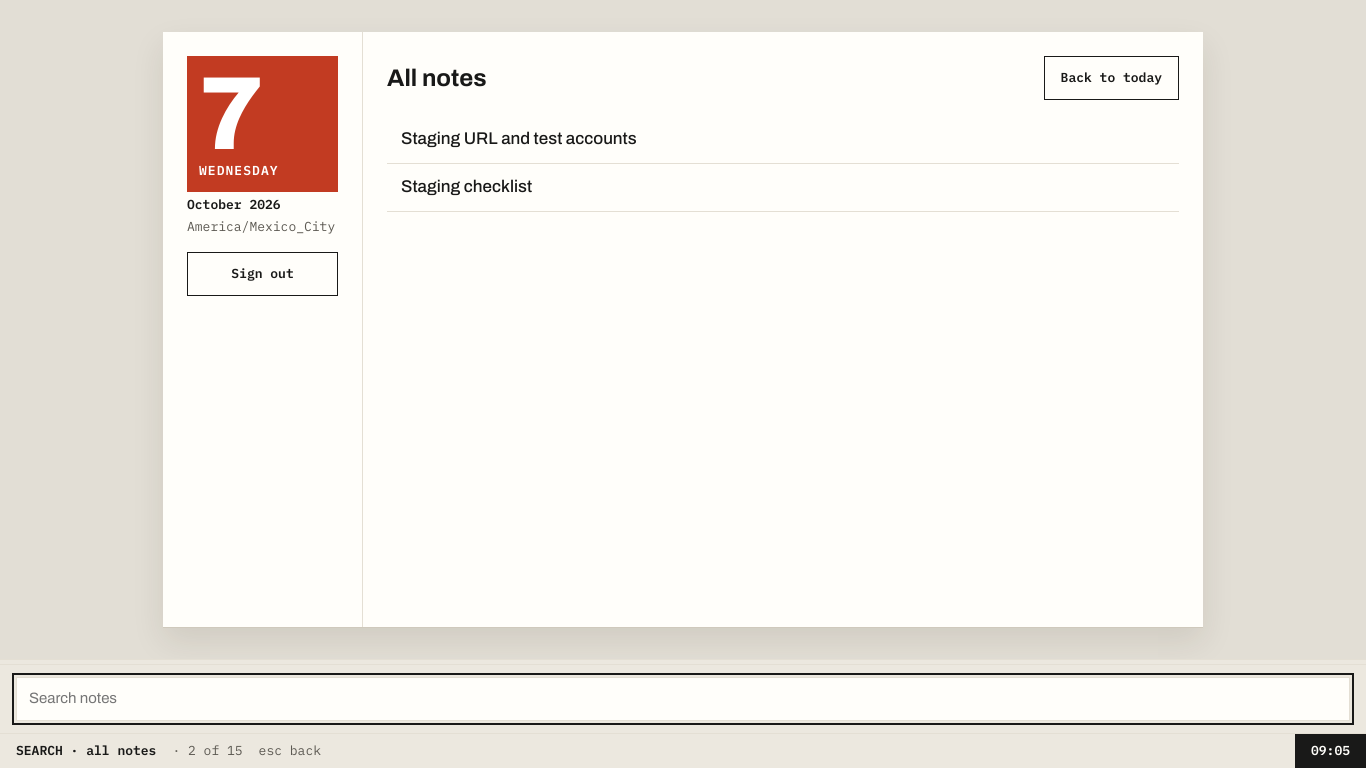
Test case: keeps the page, the input and the typed text when a later search fails
This screenshot has width=1366, height=768.
Type "stag" into the field named "Search your notes" at coordinates (683, 699), box [16,677,1350,721]
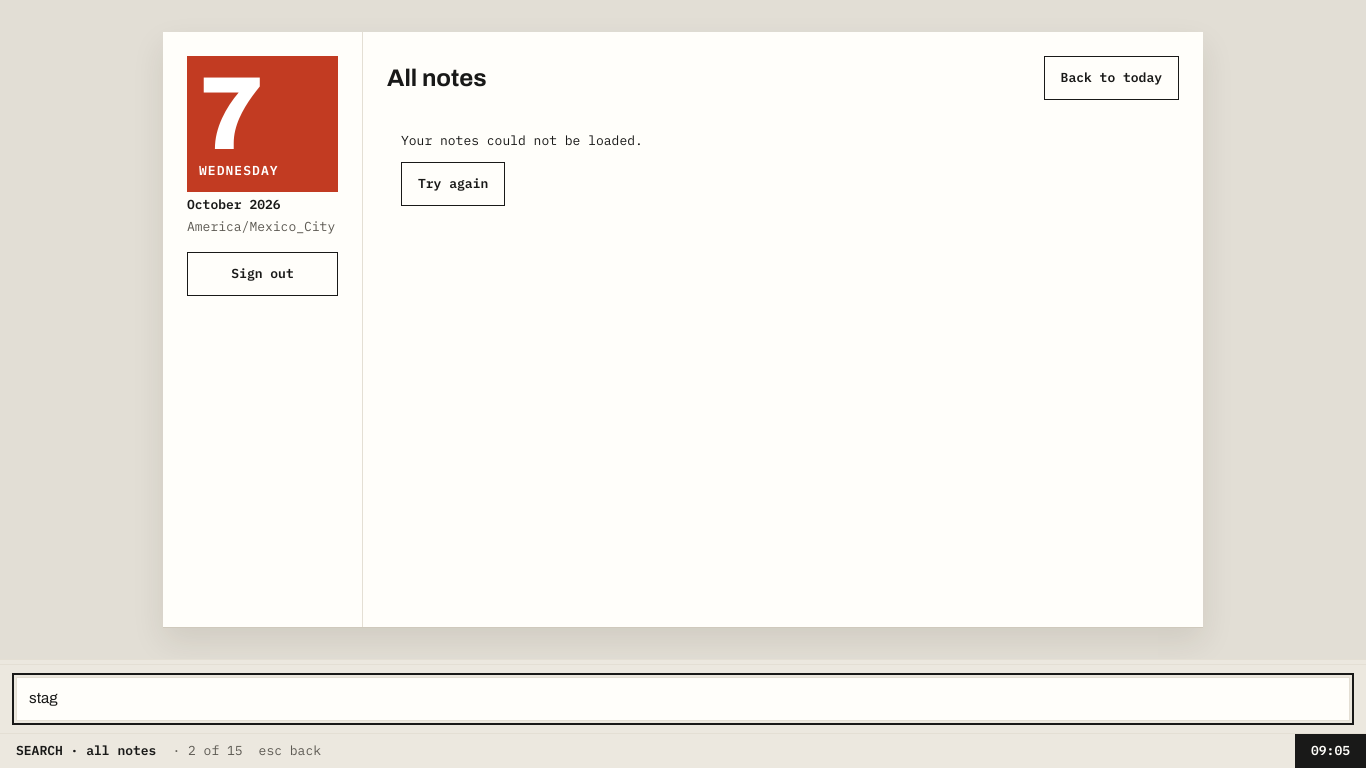
Check: the heading "All notes" is shown, box [387,64,487,92]
Check: the message reads "Your notes could not be loaded.", box [401,132,643,149]
Click the button "Try again" at coordinates (453, 184), box [401,162,505,206]
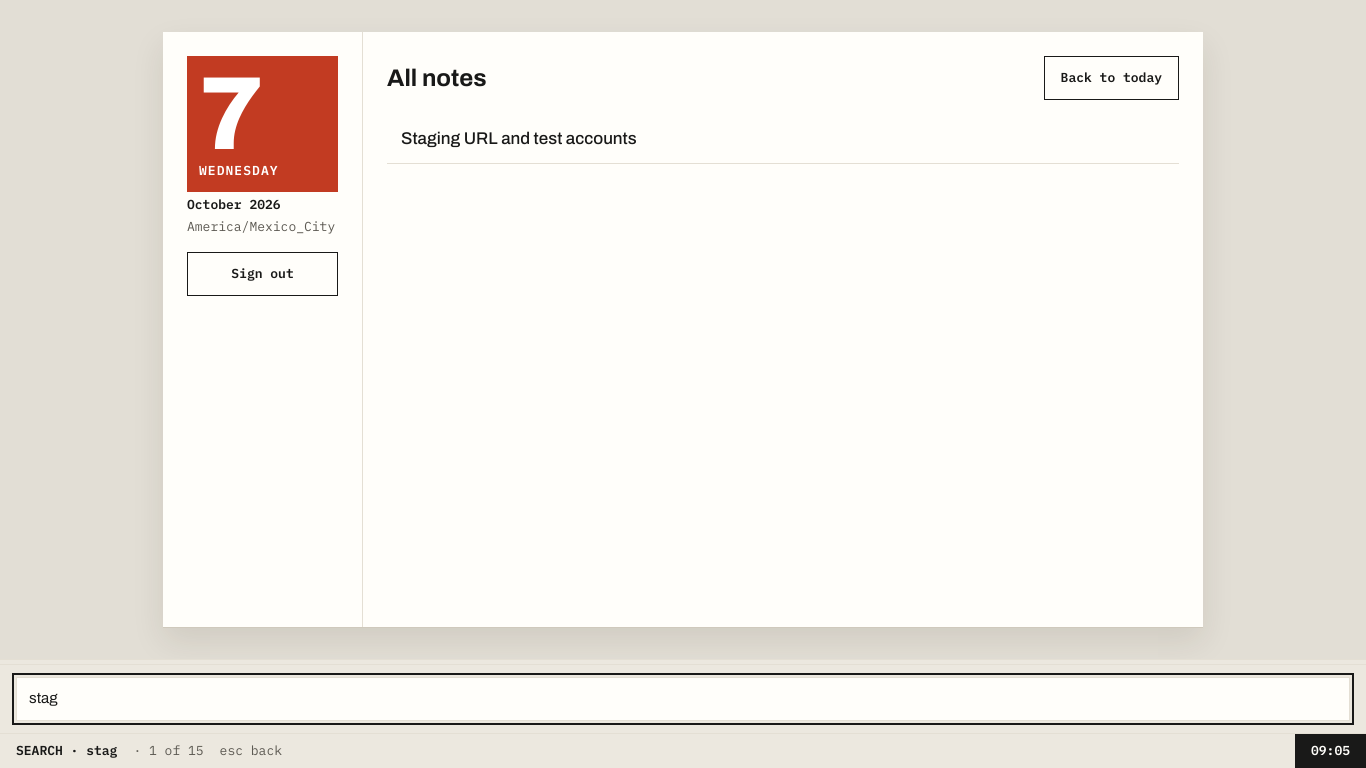
Check: the number of list items is 1, box [387,116,1179,164]
Check: the message "Your notes could not be loaded." is gone
